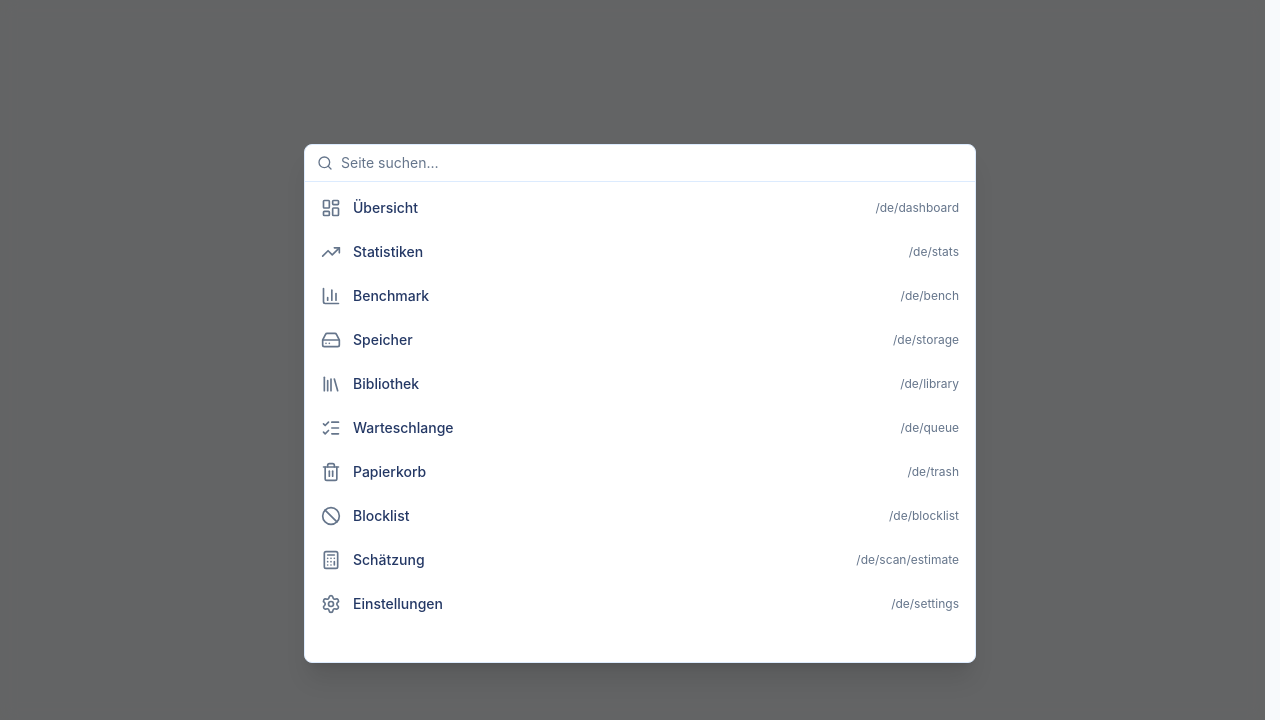
it: CommandPalette › DE locale: input placeholder is localized "Seite suchen…" + empty-state "Keine Treffer"
This screenshot has width=1280, height=720.
Type "xyz" into the dropdown with placeholder "Seite suchen…" at (652, 163), box [341,153,963,173]
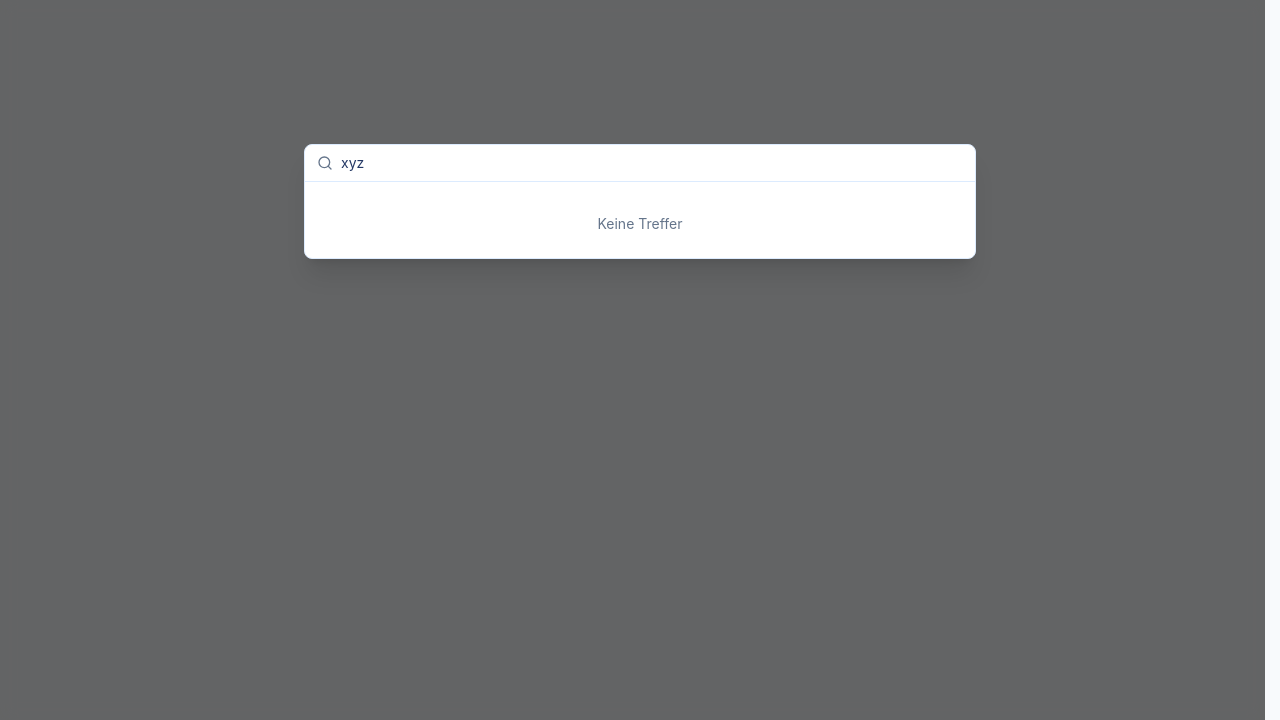
Expected: the message with test id "command-palette-empty" reads "Keine Treffer", [598,215,683,232]
